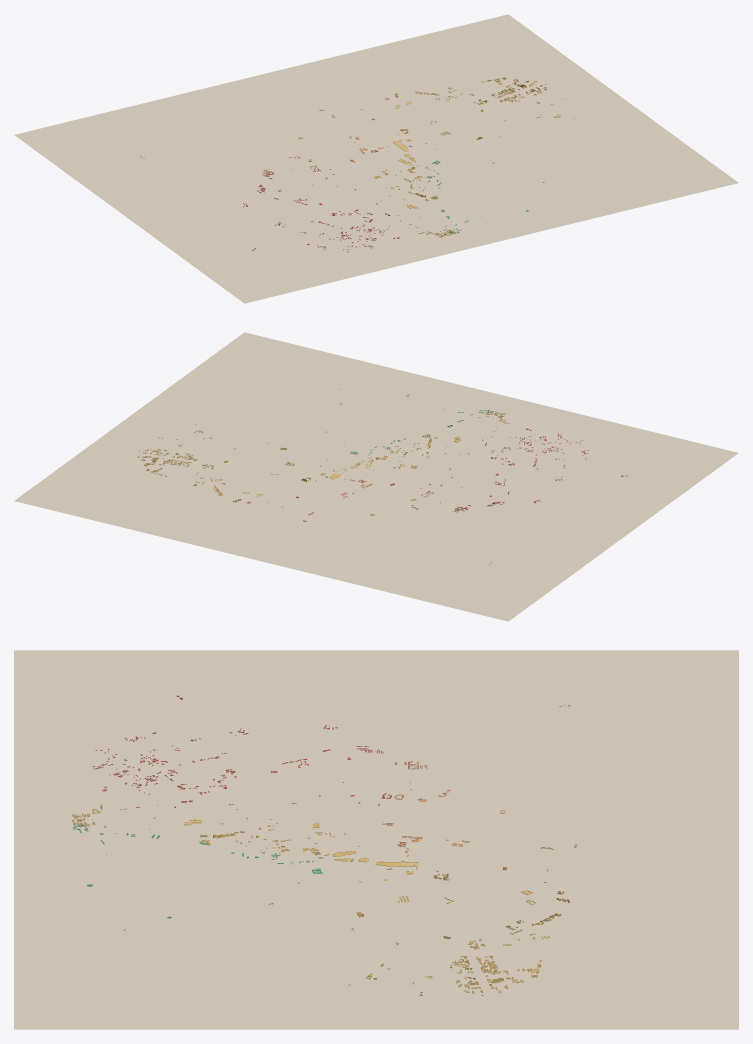
Rendered from calama-city.glb.
The picture shows the model from 3 angles, top to bottom: view 1: azimuth 30°, elevation 25°; view 2: azimuth 150°, elevation 25°; view 3: azimuth 270°, elevation 25°; orthographic projection. The views are drawn at different scales.
Visible parts, largest first — view 1: suelo, edificios_hospital, edificios_cd23; view 2: suelo, edificios_hospital, edificios_cd23; view 3: suelo, edificios_hospital, edificios_cd23, edificios_centro.
Boxes of the visible parts, x1,y1,x2,y2 form: suelo: (14,14,738,303); edificios_hospital: (393,77,574,163); edificios_cd23: (243,168,418,252); suelo: (14,332,738,621); edificios_hospital: (137,424,346,502); edificios_cd23: (420,423,626,509); suelo: (14,650,738,1029); edificios_hospital: (268,861,569,995); edificios_cd23: (92,695,412,809); edificios_centro: (72,805,368,862).
Bounding box in the file's own units: 10400 × 36 × 8400.
